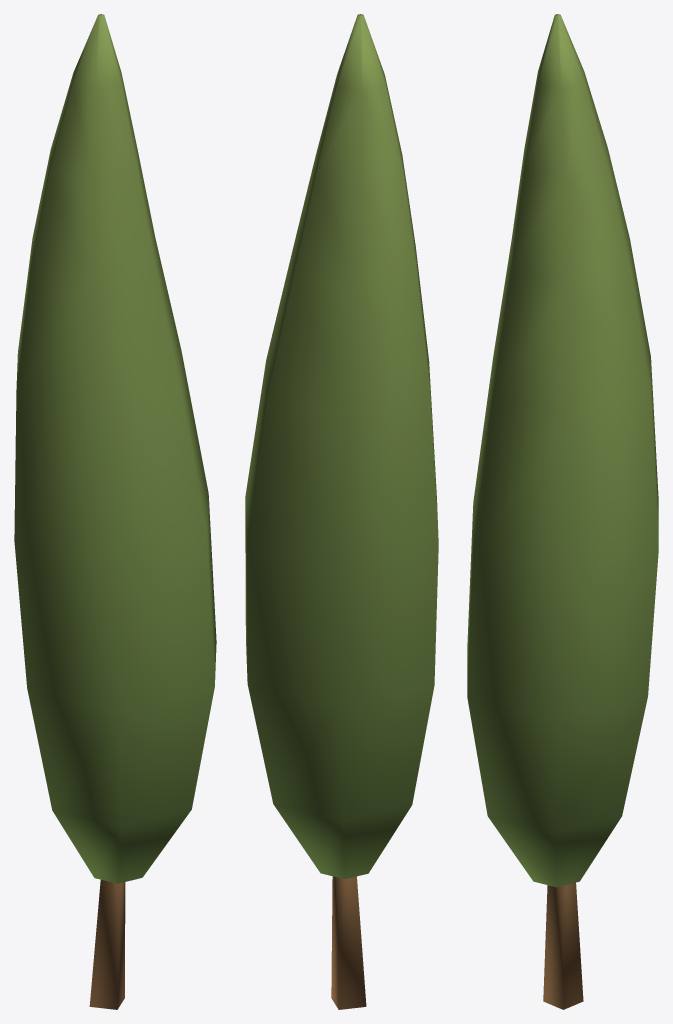
The model's file is alc_tree_c_far.glb.
3 views of the same model, side by side, from view 1: azimuth 30°, elevation 25°; view 2: azimuth 150°, elevation 25°; view 3: azimuth 270°, elevation 25° (orthographic).
Parts seen in each view (by area): view 1: alc_tree_c_far; view 2: alc_tree_c_far; view 3: alc_tree_c_far.
Part boxes in pixels (<box>): alc_tree_c_far: <box>14,14,216,1009</box>; alc_tree_c_far: <box>245,14,438,1009</box>; alc_tree_c_far: <box>467,14,658,1009</box>.
Size of the model in its own units: 1.63 by 7.8 by 1.38.
